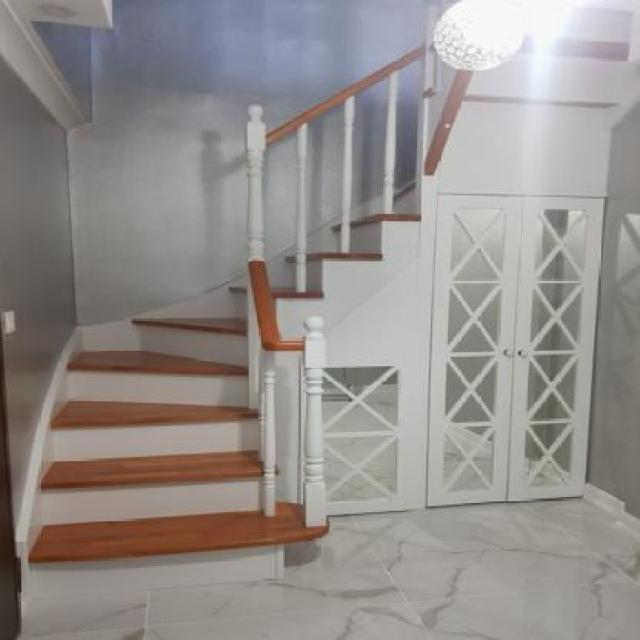stair: (27, 206, 379, 572)
